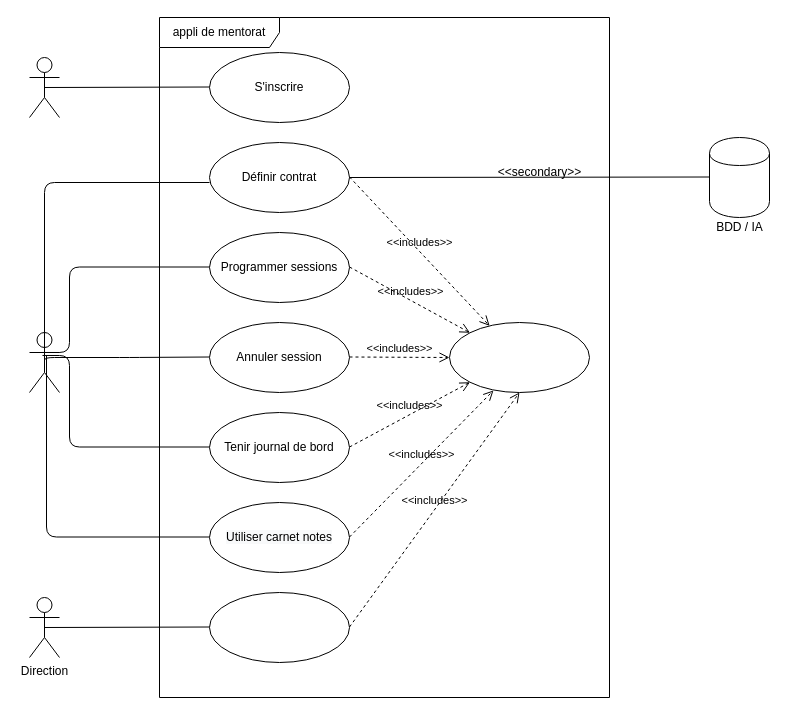
The diagram is 787 pixels wide and 715 high, and some of its shapes have lost their labels. Here are the shapes that lost their labels. From the top down, the centre of each, then its label:
At point 44,87: "Personnel".
At point 44,362: "Inscrit".
At point 519,357: "Se connecter".
At point 279,627: "Afficher les métriques".
